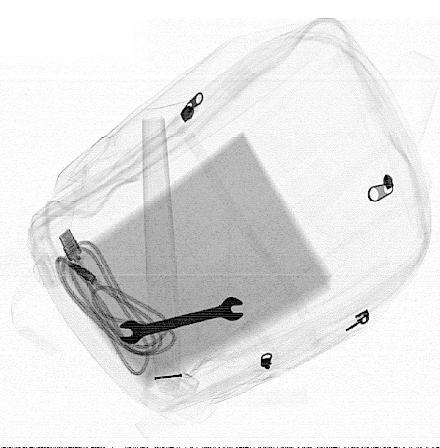Wrench: (117, 294, 245, 346)
